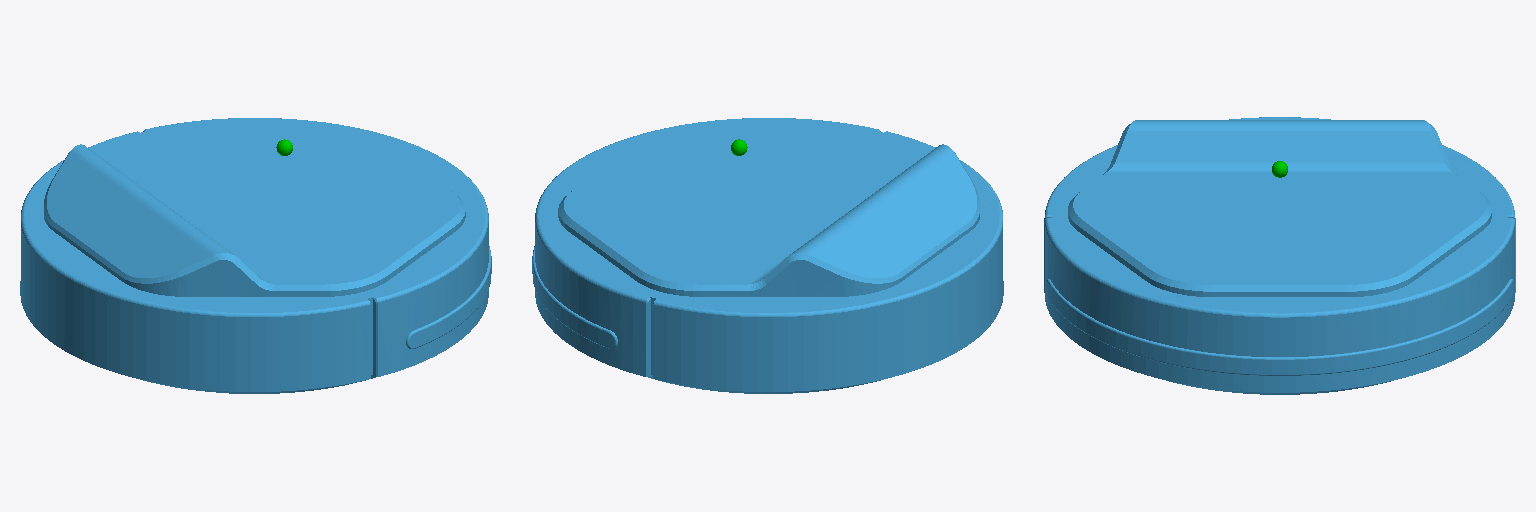
--- What the picture shows (computed from the rendered views, not written in the file) ---
3 views of the same robot in one strip: view 1: azimuth 30°, elevation 25°; view 2: azimuth 150°, elevation 25°; view 3: azimuth 270°, elevation 25° (orthographic).
Model robot_model with 10 links and 9 joints (2 continuous, 7 fixed), rooted at robot, posed all joints at 0.
Links seen in each view (by area): view 1: base_link; view 2: base_link; view 3: base_link.
Boxes of the visible links, <box> form: base_link: <box>20,118,491,393</box>; base_link: <box>532,118,1003,393</box>; base_link: <box>1044,117,1515,394</box>.
Size in the robot's own frame: 1.41 by 1.4 by 0.5836 metres.
1 mesh visuals loaded from 2 distinct referenced files (1 Collada DAE); not drawn: 2 (reference not matched to a file when rendering).

URDF robot description (robot_model):
<?xml version="1.0" ?>
  <robot name="robot_model">

    <link name="robot">
    </link>
     
    <joint name="robot_to_base" type="fixed">
        <parent link="robot"/>
        <child link="base_link"/>
        <origin rpy="0 0 0" xyz="0.00 0 0.05"/>
        <limit effort="100" velocity="100"/>
        <joint_properties damping="0.0" friction="10"/>
    </joint>

    <link name="base_link">
      <visual>
        <geometry>
          <!-- new mesh -->
          <!--<mesh filename="package://puremindbot/robot/meshes/main_body_old.dae" />-->
          <mesh filename="package://puremind_configrobot/robot/meshes/main_body.dae" />
          <!--<mesh filename="package://puremindbot/robot/meshes/pr2.dae" />-->
        </geometry>
        <origin xyz="0.0 0 0.0" rpy="0 0 0"/>
      </visual>
      <collision name="base_link">
        <geometry>
          <cylinder length="0.10938" radius="0.178"/>
        </geometry>
        <origin xyz="0.0 0 0.05949" rpy="0 0 0"/>
      </collision>
      <inertial>
        <!-- COM experimentally determined -->
        <origin xyz="0.01 0 0"/>
        <mass value="2.4"/> <!-- 2.4/2.6 kg for small/big battery pack -->
        <!-- Kobuki's inertia tensor is approximated by a cylinder with homogeneous mass distribution
             More details: http://en.wikipedia.org/wiki/List_of_moment_of_inertia_tensors
             m = 2.4 kg; h = 0.09 m; r = 0.175 m
             ixx = 1/12 * m * (3 * r^2 + h^2)
             iyy = 1/12 * m * (3 * r^2 + h^2)
             izz = 1/2 * m * r^2
          -->
        <inertia ixx="0.019995" ixy="0.0" ixz="0.0"
                 iyy="0.019995" iyz="0.0"
                 izz="0.03675" />
      </inertial>
    </link>
    
    
    
      <!--&lt;!&ndash; hokuyo_1 Laser &ndash;&gt;-->
  <!--<link name="hokuyo_1">-->
    <!--&lt;!&ndash;<collision>&ndash;&gt;-->
      <!--&lt;!&ndash;<origin xyz="0 0 0" rpy="0 0 0"/>&ndash;&gt;-->
      <!--&lt;!&ndash;<geometry>&ndash;&gt;-->
        <!--&lt;!&ndash;<box size="0.1 0.1 0.1"/>&ndash;&gt;-->
      <!--&lt;!&ndash;</geometry>&ndash;&gt;-->
    <!--&lt;!&ndash;</collision>&ndash;&gt;-->

    <!--<inertial>-->
      <!--<mass value="1e-5" />-->
      <!--<origin xyz="0 0 0" rpy="0 0 0"/>-->
      <!--<inertia ixx="1e-6" ixy="0" ixz="0" iyy="1e-6" iyz="0" izz="1e-6" />-->
    <!--</inertial>-->
  <!--</link>-->

  <!--<link name="hokuyo_2">-->
    <!--&lt;!&ndash;<collision>&ndash;&gt;-->
      <!--&lt;!&ndash;<origin xyz="0 0 0" rpy="0 0 0"/>&ndash;&gt;-->
      <!--&lt;!&ndash;<geometry>&ndash;&gt;-->
        <!--&lt;!&ndash;<box size="0.1 0.1 0.1"/>&ndash;&gt;-->
      <!--&lt;!&ndash;</geometry>&ndash;&gt;-->
    <!--&lt;!&ndash;</collision>&ndash;&gt;-->

    <!--<inertial>-->
      <!--<mass value="1e-5" />-->
      <!--<origin xyz="0 0 0" rpy="0 0 0"/>-->
      <!--<inertia ixx="1e-6" ixy="0" ixz="0" iyy="1e-6" iyz="0" izz="1e-6" />-->
    <!--</inertial>-->
  <!--</link>-->

  <!--<link name="hokuyo_3">-->
    <!--&lt;!&ndash;<collision>&ndash;&gt;-->
      <!--&lt;!&ndash;<origin xyz="0 0 0" rpy="0 0 0"/>&ndash;&gt;-->
      <!--&lt;!&ndash;<geometry>&ndash;&gt;-->
        <!--&lt;!&ndash;<box size="0.1 0.1 0.1"/>&ndash;&gt;-->
      <!--&lt;!&ndash;</geometry>&ndash;&gt;-->
    <!--&lt;!&ndash;</collision>&ndash;&gt;-->

    <!--<inertial>-->
      <!--<mass value="1e-5" />-->
      <!--<origin xyz="0 0 0" rpy="0 0 0"/>-->
      <!--<inertia ixx="1e-6" ixy="0" ixz="0" iyy="1e-6" iyz="0" izz="1e-6" />-->
    <!--</inertial>-->
  <!--</link>-->
    

<!--<joint name="hokuyo_1_joint" type="fixed">-->
    <!--<axis xyz="0 1 0" />-->
    <!--<origin xyz=".0 .0 0.5" rpy="0 0 0"/>-->
    <!--<parent link="base_link"/>-->
    <!--<child link="hokuyo_1"/>-->
<!--</joint>-->

<!--<joint name="hokuyo_2_joint" type="fixed">-->
    <!--<axis xyz="0 1 0" />-->
    <!--<origin xyz=".0 0.178 0.5" rpy="0 0 0"/>-->
    <!--<parent link="base_link"/>-->
    <!--<child link="hokuyo_2"/>-->
<!--</joint>-->

<!--<joint name="hokuyo_3_joint" type="fixed">-->
    <!--<axis xyz="0 1 0" />-->
    <!--<origin xyz=".0 -0.178 0.5" rpy="0 0 0"/>-->
    <!--<parent link="base_link"/>-->
    <!--<child link="hokuyo_3"/>-->
<!--</joint>-->


<joint name="caster_front_joint" type="fixed">
      <parent link="base_link"/>
      <child link="caster_front_link"/>
      <origin xyz="0.115 0.0 0.007" rpy="-1.570796327 0 0"/>
    </joint>
    <link name="caster_front_link">
      <collision>
        <geometry>
          <cylinder length="0.0176" radius="0.017"/>
        </geometry>
        <origin rpy="0 0 0" xyz="0 0 0"/>
      </collision>
      <inertial>
        <mass value="0.01" />
        <origin xyz="0 0 0" />
        <inertia ixx="0.001" ixy="0.0" ixz="0.0"
                 iyy="0.001" iyz="0.0"
                 izz="0.001" />
      </inertial>
    </link>

    <joint name="caster_back_joint" type="fixed">
      <parent link="base_link"/>
      <child link="caster_back_link"/>
      <origin xyz="-0.135 0.0 0.009" rpy="-1.570796327 0 0"/>
    </joint>
    <link name="caster_back_link">
      <collision>
        <geometry>
          <cylinder length="0.0176" radius="0.017"/>
        </geometry>
        <origin rpy="0 0 0" xyz="0 0 0"/>
      </collision>
      <inertial>
        <mass value="0.01" />
        <origin xyz="0 0 0" />
        <inertia ixx="0.001" ixy="0.0" ixz="0.0"
                 iyy="0.001" iyz="0.0"
                 izz="0.001" />
      </inertial>
    </link>


    <link name="front_right_wheel">
      <visual>
        <geometry>
          <mesh filename="package://puremind_configrobot/robot/meshes/wheel.dae"/>
        </geometry>
        <origin xyz="0 0 0" rpy="0 0 0"/>
      </visual>
      <collision>
        <geometry>
          <cylinder length="0.0206" radius="0.0350"/>
        </geometry>
        <origin rpy="0 0 0" xyz="0 0 0"/>
      </collision>
      <inertial>
        <mass value="0.01" />
        <origin xyz="0 0 0" />
         <inertia ixx="0.001" ixy="0.0" ixz="0.0"
                 iyy="0.001" iyz="0.0"
                 izz="0.001" />
      </inertial>
    </link>


    <joint name="front_base_to_right_wheel" type="continuous">       
        <parent link="base_link"/>
        <child link="front_right_wheel"/>
        <origin xyz="0.00 -0.115 0.0250" rpy="-1.570796327 0 0"/>
        <axis xyz="0 0 1"/>
    </joint>

    <link name="front_left_wheel">
      <visual>
        <geometry>
          <mesh filename="package://puremind_configrobot/robot/meshes/wheel.dae"/>
        </geometry>
        <origin xyz="0 0 0" rpy="0 0 0"/>
      </visual>
      <collision>
        <geometry>
          <cylinder length="0.0206" radius="0.0352"/>
        </geometry>
        <origin rpy="0 0 0" xyz="0 0 0"/>
      </collision>
      <inertial>
        <mass value="0.01" />
        <origin xyz="0 0 0" />
        <inertia ixx="0.001" ixy="0.0" ixz="0.0"
                 iyy="0.001" iyz="0.0"
                 izz="0.001" />
      </inertial>
    </link>


    <joint name="front_base_to_left_wheel" type="continuous">       
        <parent link="base_link"/>
        <child link="front_left_wheel"/>
        <origin xyz="0.00 0.115 0.0250" rpy="-1.570796327 0 0"/>
        <axis xyz="0 0 1"/>
    </joint>

    <link name="top">
      <visual>
        <geometry>
                <cylinder radius="0.06" length="0.02"/>
        </geometry>
        <material name="blue">
                <color rgba="0 0 .8 1"/>
        </material>
      </visual>
      <!--<collision>-->
            <!--<geometry>-->
                <!--<cylinder radius="0.06" length="0.02"/>-->
            <!--</geometry>-->
       <!--</collision>-->
       <inertial>
            <origin rpy="0 0 0" xyz="0.000000 0.000000 0.000000"/>
            <mass value="1"/>
            <inertia ixx="0.0104" ixy="0" ixz="0" iyy="0.05638" iyz="0" izz="0.0500"/>
       </inertial>
     </link>

    <joint name="base_to_top" type="fixed">
        <parent link="base_link"/>
        <child link="top"/>
        <origin rpy="0 0 0" xyz="0.00 0 0.06"/>
        <limit effort="100" velocity="100"/>
        <joint_properties damping="0.0" friction="10"/>
    </joint>

    <link name="sim_cam">
      <visual>
        <geometry>
            <sphere radius="0.025"/>
        </geometry>
        <material name="green">
            <color rgba="0 .8 0 1"/>
        </material>
      </visual>
      <!--<collision>-->
        <!--<geometry>-->
            <!--<sphere radius="0.025"/>-->
        <!--</geometry>-->
      <!--</collision>-->
      <inertial>
        <origin rpy="0 0 0" xyz="0.000000 0.000000 0.000000"/>
        <mass value="0.1"/>
        <inertia ixx="0.0104" ixy="0" ixz="0" iyy="0.05638" iyz="0" izz="0.0500"/>
      </inertial>
    </link>
          
    <joint name="top_to_sim_cam" type="fixed">
        <parent link="top"/>
        <child link="sim_cam"/>
        <!--<origin rpy="0 0 0" xyz="0.10 0 0.80"/>-->
        <origin rpy="0 0 0" xyz="0.10 0 0.25"/>
        <limit effort="100" velocity="100"/>
        <joint_properties damping="0.0" friction="10"/>
    </joint>
	  
    <link name="usb_cam">
    </link>

     <link name="usb_cam_third">
    </link>
    
    <joint name="usb_cam_sim_cam" type="fixed">
        <parent link="sim_cam"/>
        <child link="usb_cam"/>
        <origin rpy="-1.59 0 -1.57" xyz="0 0 0"/>
        <limit effort="100" velocity="100"/>
        <joint_properties damping="0.0" friction="10"/>
    </joint>


    <joint name="usb_cam_third_sim_cam" type="fixed">
        <parent link="sim_cam"/>
        <child link="usb_cam_third"/>
        <origin rpy="0 0.5 0" xyz="-2 0 1"/>
        <limit effort="100" velocity="100"/>
        <joint_properties damping="0.0" friction="10"/>
    </joint>


    
    <gazebo reference="caster_front_link">
        <mu1>0.0</mu1>
        <mu2>0.0</mu2>
        <kp>1000000.0</kp>
        <kd>100.0</kd>
        <minDepth>0.001</minDepth>
        <maxVel>1.0</maxVel>
    </gazebo>

    <gazebo reference="caster_back_link">
        <mu1>0.0</mu1>
        <mu2>0.0</mu2>
        <kp>1000000.0</kp>
        <kd>100.0</kd>
        <minDepth>0.001</minDepth>
        <maxVel>1.0</maxVel>
    </gazebo>
          
    
    <gazebo reference="front_left_wheel">
        <mu1>1.0</mu1>
        <mu2>1.0</mu2>
        <kp>1000000.0</kp>
        <kd>100.0</kd>
        <minDepth>0.001</minDepth>
        <maxVel>1.0</maxVel>
    </gazebo>

    <gazebo reference="front_right_wheel">
        <mu1>1.0</mu1>
        <mu2>1.0</mu2>
        <kp>1000000.0</kp>
        <kd>100.0</kd>
        <minDepth>0.001</minDepth>
        <maxVel>1.0</maxVel>
    </gazebo>

    <gazebo reference="base_link">
        <mu1>0.3</mu1>
        <mu2>0.3</mu2>
    </gazebo>


    <gazebo reference="sim_cam">
        <sensor type="depth" name="openni_camera">
            <update_rate>10.0</update_rate>
           <!--  <always_on>1</always_on>
            <visualize>true</visualize>
            <camera>
                <horizontal_fov>2.047</horizontal_fov>
                <image>
                    <width>640</width>
                    <height>480</height>
                    <format>R8G8B8</format>
                </image>
                <depth_camera>

                </depth_camera>
                <clip>
                    <near>0.1</near>
                    <far>100</far>
                </clip>
            </camera>

    -->

            <camera>
                <horizontal_fov>1.87</horizontal_fov>
                <image>
                    <width>416</width>
                    <height>234</height>
                    <format>R8G8B8</format>
                </image>
            </camera>

            <plugin name="camera_controller" filename="libgazebo_ros_openni_kinect.so">
                <alwaysOn>true</alwaysOn>
                    <updateRate>10.0</updateRate>
                    <cameraName>/usb_cam</cameraName>
                    <frameName>usb_cam</frameName>
                <imageTopicName>rgb/image_raw</imageTopicName>
                <depthImageTopicName>depth/image_raw</depthImageTopicName>
                <pointCloudTopicName>depth/points</pointCloudTopicName>
                <cameraInfoTopicName>rgb/camera_info</cameraInfoTopicName>
                <depthImageCameraInfoTopicName>depth/camera_info</depthImageCameraInfoTopicName>
                <pointCloudCutoff>0.5</pointCloudCutoff>
                    <hackBaseline>0.07</hackBaseline>
                    <distortionK1>0.0</distortionK1>
                    <distortionK2>0.0</distortionK2>
                    <distortionK3>0.0</distortionK3>
                    <distortionT1>0.0</distortionT1>
                    <distortionT2>0.0</distortionT2>
                <CxPrime>0.0</CxPrime>
                <Cx>0.0</Cx>
                <Cy>0.0</Cy>
                <focalLength>0.0</focalLength>
                </plugin>
        </sensor>
    </gazebo>


 <!--<gazebo reference="usb_cam_third">-->
    <!--<sensor type="camera" name="camera1">-->
      <!--<update_rate>30.0</update_rate>-->
      <!--<camera name="head">-->
        <!--<horizontal_fov>1.3962634</horizontal_fov>-->
        <!--<image>-->
          <!--<width>640</width>-->
          <!--<height>360</height>-->
          <!--<format>R8G8B8</format>-->
        <!--</image>-->
        <!--<clip>-->
          <!--<near>0.02</near>-->
          <!--<far>300</far>-->
        <!--</clip>-->
       <!--<lens>-->
        <!--<type>gnomonical</type>-->
        <!--<scale_to_hfov>true</scale_to_hfov>-->
        <!--<cutoff_angle>1.5707</cutoff_angle>-->
        <!--<env_texture_size>512</env_texture_size>-->
      <!--</lens>-->
        <!--<noise>-->
          <!--<type>gaussian</type>-->
          <!--&lt;!&ndash; Noise is sampled independently per pixel on each frame.-->
               <!--That pixel's noise value is added to each of its color-->
               <!--channels, which at that point lie in the range [0,1]. &ndash;&gt;-->
          <!--<mean>0.0</mean>-->
          <!--<stddev>0.007</stddev>-->
        <!--</noise>-->
      <!--</camera>-->
      <!--<plugin name="camera_controller" filename="libgazebo_ros_camera.so">-->
        <!--<alwaysOn>true</alwaysOn>-->
        <!--<updateRate>0.0</updateRate>-->
        <!--<cameraName>rrbot/camera1</cameraName>-->
        <!--<imageTopicName>image_raw</imageTopicName>-->
        <!--<cameraInfoTopicName>camera_info</cameraInfoTopicName>-->
        <!--<frameName>camera_link</frameName>-->
        <!--<hackBaseline>0.07</hackBaseline>-->
         <!--<distortion>-->
            <!--<k1>-0.020691</k1>-->
            <!--<k2>-0.011846</k2>-->
             <!--<p1>0.002766</p1>-->
             <!--<p2>0.002499</p2>-->
                <!--<center>0.5 0.5</center>-->
          <!--</distortion>-->
      <!--</plugin>-->
    <!--</sensor>-->
  <!--</gazebo>-->


    <!--<gazebo reference="usb_cam_third">-->
     <!--<sensor name="camera" type="camera">-->
        <!--<camera>-->
          <!--<horizontal_fov>1.047</horizontal_fov>-->
          <!--<image>-->
            <!--<width>320</width>-->
            <!--<height>240</height>-->
          <!--</image>-->
          <!--<clip>-->
            <!--<near>0.1</near>-->
            <!--<far>100</far>-->
          <!--</clip>-->
          <!--&lt;!&ndash;<lens>&ndash;&gt;-->
            <!--&lt;!&ndash;<type>gnomonical</type>&ndash;&gt;-->
            <!--&lt;!&ndash;<scale_to_hfov>true</scale_to_hfov>&ndash;&gt;-->
            <!--&lt;!&ndash;<cutoff_angle>1.5707</cutoff_angle>&ndash;&gt;-->
            <!--&lt;!&ndash;<env_texture_size>512</env_texture_size>&ndash;&gt;-->
          <!--&lt;!&ndash;</lens>&ndash;&gt;-->
        <!--</camera>-->
        <!--<always_on>1</always_on>-->
        <!--<update_rate>30</update_rate>-->
      <!--</sensor>-->
    <!--</gazebo>-->


    <!--<gazebo reference="usb_cam_third">-->
        <!--<sensor type="wideangelcameras" name="zzz">-->
           <!--&lt;!&ndash;  <always_on>1</always_on>-->
            <!--<visualize>true</visualize>-->
            <!--<camera>-->
                <!--<horizontal_fov>2.047</horizontal_fov>-->
                <!--<image>-->
                    <!--<width>640</width>-->
                    <!--<height>480</height>-->
                    <!--<format>R8G8B8</format>-->
                <!--</image>-->
                <!--<depth_camera>-->

                <!--</depth_camera>-->
                <!--<clip>-->
                    <!--<near>0.1</near>-->
                    <!--<far>100</far>-->
                <!--</clip>-->
            <!--</camera>-->

    <!--&ndash;&gt;-->

            <!--<camera>-->
                <!--<horizontal_fov>1.57</horizontal_fov>-->
                <!--<image>-->
                    <!--<width>640</width>-->
                    <!--<height>360</height>-->
                    <!--<format>R8G8B8</format>-->
                <!--</image>-->
            <!--</camera>-->


            <!--<plugin name="camera_controller" filename="libgazebo_ros_openni_kinect.so">-->
                <!--<alwaysOn>true</alwaysOn>-->
                    <!--<updateRate>10.0</updateRate>-->
                    <!--<cameraName>/usb_cam_third</cameraName>-->
                    <!--<frameName>usb_cam_third</frameName>-->
                <!--<imageTopicName>rgb/image_raw</imageTopicName>-->
                <!--&lt;!&ndash;<depthImageTopicName>depth/image_raw</depthImageTopicName>&ndash;&gt;-->
                <!--&lt;!&ndash;<pointCloudTopicName>depth/points</pointCloudTopicName>&ndash;&gt;-->
                <!--<cameraInfoTopicName>rgb/camera_info</cameraInfoTopicName>-->
                <!--&lt;!&ndash;<depthImageCameraInfoTopicName>depth/camera_info</depthImageCameraInfoTopicName>&ndash;&gt;-->
                <!--&lt;!&ndash;<pointCloudCutoff>0.5</pointCloudCutoff>&ndash;&gt;-->
                    <!--&lt;!&ndash;<hackBaseline>0.07</hackBaseline>&ndash;&gt;-->
                    <!--&lt;!&ndash;<distortionK1>0.0</distortionK1>&ndash;&gt;-->
                    <!--&lt;!&ndash;<distortionK2>0.0</distortionK2>&ndash;&gt;-->
                    <!--&lt;!&ndash;<distortionK3>0.0</distortionK3>&ndash;&gt;-->
                    <!--&lt;!&ndash;<distortionT1>0.0</distortionT1>&ndash;&gt;-->
                    <!--&lt;!&ndash;<distortionT2>0.0</distortionT2>&ndash;&gt;-->
                <!--<CxPrime>0.0</CxPrime>-->
                <!--<Cx>0.0</Cx>-->
                <!--<Cy>0.0</Cy>-->
                <!--<focalLength>0.0</focalLength>-->
                <!--</plugin>-->
        <!--</sensor>-->
    <!--</gazebo>-->



    
    <!-- camera -->
    <gazebo reference="sim_cam1">
      <sensor type="camera" name="camera1">
        <update_rate>10.0</update_rate>
        <camera name="head">
          <horizontal_fov>1.57</horizontal_fov>
          <image>
            <width>300</width>
            <height>300</height>
            <format>R8G8B8</format>
          </image>
          <clip>
            <near>0.02</near>
            <far>300</far>
          </clip>
          <noise>
            <type>gaussian</type>
            <!-- Noise is sampled independently per pixel on each frame.
                 That pixel's noise value is added to each of its color
                 channels, which at that point lie in the range [0,1]. -->
            <mean>0.0</mean>
            <stddev>0.007</stddev>
          </noise>
        </camera>
        <plugin name="camera_controller" filename="libgazebo_ros_camera.so">
          <alwaysOn>true</alwaysOn>
          <updateRate>0.0</updateRate>
          <cameraName>/usb_cam</cameraName>
          <imageTopicName>image_raw</imageTopicName>
          <cameraInfoTopicName>camera_info</cameraInfoTopicName>
          <frameName>usb_cam</frameName>
          <hackBaseline>0.07</hackBaseline>
          <distortionK1>0.0</distortionK1>
          <distortionK2>0.0</distortionK2>
          <distortionK3>0.0</distortionK3>
          <distortionT1>0.0</distortionT1>
          <distortionT2>0.0</distortionT2>
        </plugin>
      </sensor>
    </gazebo>
    
    <gazebo>
      <plugin name="differential_drive_controller" filename="libgazebo_ros_diff_drive.so">
        <alwaysOn>true</alwaysOn>
        <updateRate>30</updateRate>
        <legacyMode>false</legacyMode>
        <leftJoint>front_base_to_left_wheel</leftJoint>
        <rightJoint>front_base_to_right_wheel</rightJoint>
        <wheelSeparation>0.230</wheelSeparation>
        <wheelDiameter>0.070</wheelDiameter>
        <torque>30</torque>
        <commandTopic>puremindbot/cmd_vel</commandTopic>
        <odometryTopic>odom</odometryTopic>
        <odometryFrame>odom</odometryFrame>
        <robotBaseFrame>base_link</robotBaseFrame>
        
        <publishWheelTF>true</publishWheelTF>
        <publishWheelJointState>true</publishWheelJointState>
      </plugin>
    </gazebo>
    
        <!--&lt;!&ndash; hokuyo_1 &ndash;&gt;-->
  <!--<gazebo reference="hokuyo_1">-->
    <!--<sensor type="gpu_ray" name="head_hokuyo_1_sensor">-->
      <!--<pose>0 0 0 0 0 0</pose>-->
      <!--<visualize>true</visualize>-->
      <!--<update_rate>5</update_rate>-->
      <!--<ray>-->
        <!--<scan>-->
          <!--<horizontal>-->
            <!--<samples>5</samples>-->
            <!--<resolution>1</resolution>-->
            <!--<min_angle>-0.01</min_angle>-->
            <!--<max_angle>0.01</max_angle>-->
          <!--</horizontal>-->
        <!--</scan>-->
        <!--<range>-->
          <!--<min>0.10</min>-->
          <!--<max>10.0</max>-->
          <!--<resolution>0.1</resolution>-->
        <!--</range>-->
        <!--<noise>-->
          <!--<type>gaussian</type>-->
          <!---->
          <!--<mean>0.0</mean>-->
          <!--<stddev>0.01</stddev>-->
        <!--</noise>-->
      <!--</ray>-->
      <!--<plugin name="gazebo_ros_head_hokuyo_1_controller" filename="libgazebo_ros_gpu_laser.so">-->
        <!--<topicName>/puremindbot/laser_1</topicName>-->
        <!--<frameName>hokuyo_1</frameName>-->
      <!--</plugin>-->
    <!--</sensor>-->
  <!--</gazebo>-->

   <!--<gazebo reference="hokuyo_2">-->
    <!--<sensor type="gpu_ray" name="head_hokuyo_2_sensor">-->
      <!--<pose>0 0 0 0 0 0</pose>-->
      <!--<visualize>true</visualize>-->
      <!--<update_rate>5</update_rate>-->
      <!--<ray>-->
        <!--<scan>-->
          <!--<horizontal>-->
            <!--<samples>5</samples>-->
            <!--<resolution>1</resolution>-->
            <!--<min_angle>-0.01</min_angle>-->
            <!--<max_angle>0.01</max_angle>-->
          <!--</horizontal>-->
        <!--</scan>-->
        <!--<range>-->
          <!--<min>0.10</min>-->
          <!--<max>10.0</max>-->
          <!--<resolution>0.1</resolution>-->
        <!--</range>-->
        <!--<noise>-->
          <!--<type>gaussian</type>-->

          <!--<mean>0.0</mean>-->
          <!--<stddev>0.01</stddev>-->
        <!--</noise>-->
      <!--</ray>-->
      <!--<plugin name="gazebo_ros_head_hokuyo_2_controller" filename="libgazebo_ros_gpu_laser.so">-->
        <!--<topicName>/puremindbot/laser_2</topicName>-->
        <!--<frameName>hokuyo_2</frameName>-->
      <!--</plugin>-->
    <!--</sensor>-->
  <!--</gazebo>-->

   <!--<gazebo reference="hokuyo_3">-->
    <!--<sensor type="gpu_ray" name="head_hokuyo_3_sensor">-->
      <!--<pose>0 0 0 0 0 0</pose>-->
      <!--<visualize>true</visualize>-->
      <!--<update_rate>5</update_rate>-->
      <!--<ray>-->
        <!--<scan>-->
          <!--<horizontal>-->
            <!--<samples>5</samples>-->
            <!--<resolution>1</resolution>-->
            <!--<min_angle>-0.01</min_angle>-->
            <!--<max_angle>0.01</max_angle>-->
          <!--</horizontal>-->
        <!--</scan>-->
        <!--<range>-->
          <!--<min>0.10</min>-->
          <!--<max>10.0</max>-->
          <!--<resolution>0.1</resolution>-->
        <!--</range>-->
        <!--<noise>-->
          <!--<type>gaussian</type>-->

          <!--<mean>0.0</mean>-->
          <!--<stddev>0.01</stddev>-->
        <!--</noise>-->
      <!--</ray>-->
      <!--<plugin name="gazebo_ros_head_hokuyo_3_controller" filename="libgazebo_ros_gpu_laser.so">-->
        <!--<topicName>/puremindbot/laser_3</topicName>-->
        <!--<frameName>hokuyo_3</frameName>-->
      <!--</plugin>-->
    <!--</sensor>-->
  <!--</gazebo>-->

  </robot>
